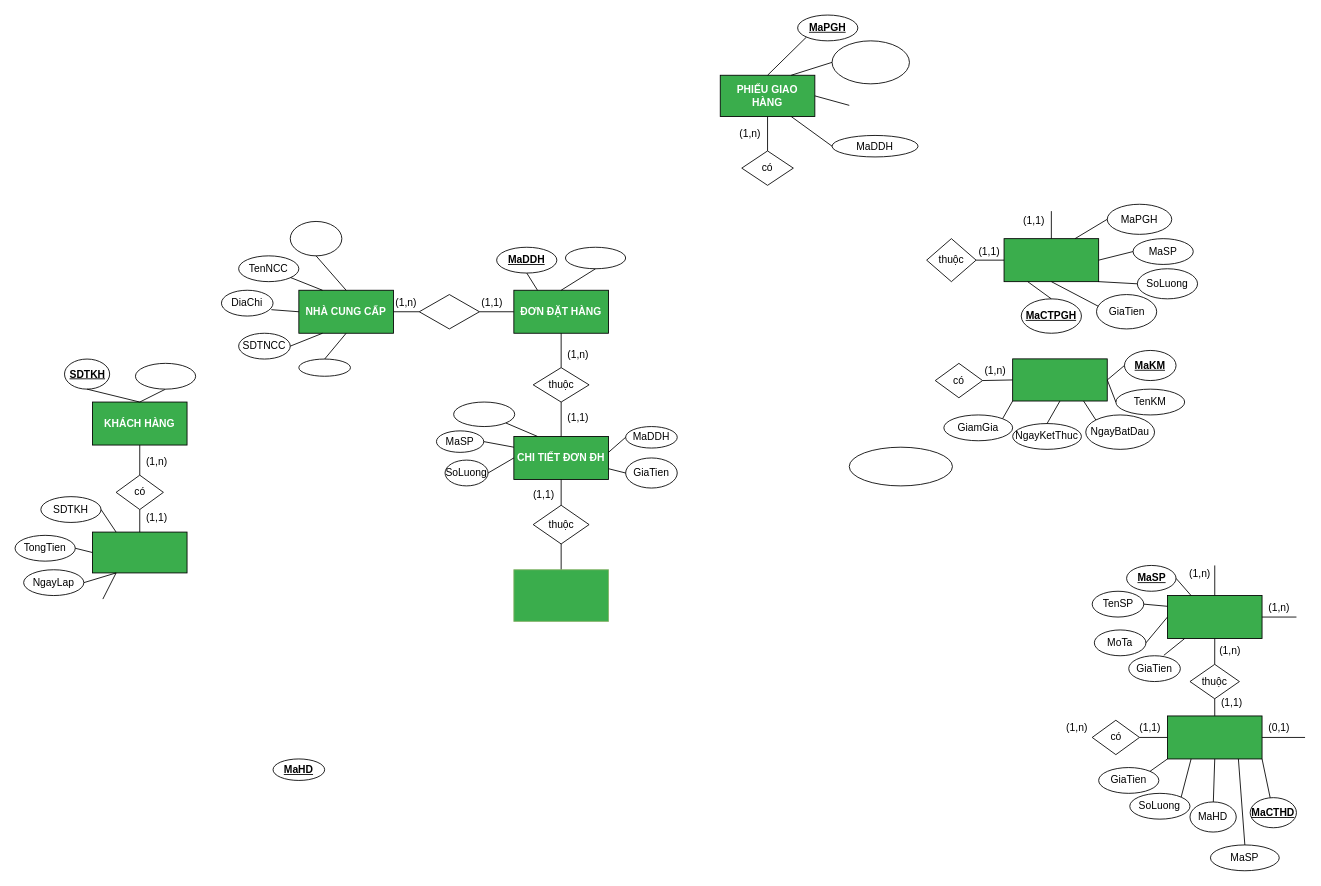
Image size: 1321x886. Some labels were removed from this diagram. The centre of each missing label's shape, as x and y in pixels:
CHI TIẾT HÓA ĐƠN: point 1214,737
CHI TIẾT PGH: point 1051,260
cung cấp: point 448,311
Email: point 324,367
HÓA ĐƠN: point 139,552
KHUYẾN MÃI: point 1059,379
MaCTDDH: point 484,414
MaNCC: point 315,238
NgayDH: point 595,257
NgayGiaoHang: point 870,62
NGUYÊN LIỆU: point 560,595
SẢN PHẨM: point 1214,617
TenKH: point 165,375
TinhTrangGiaoHang: point 900,466
